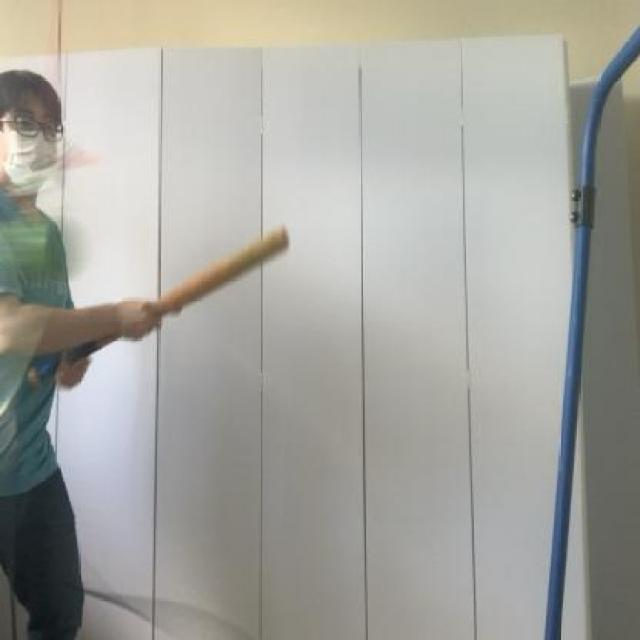baseball: (0, 206, 111, 280)
